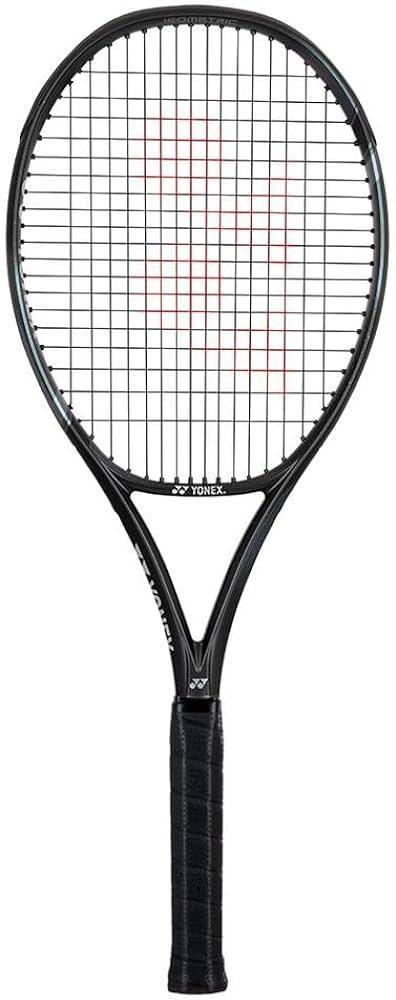Tennis-Racket: (7, 6, 388, 992)
